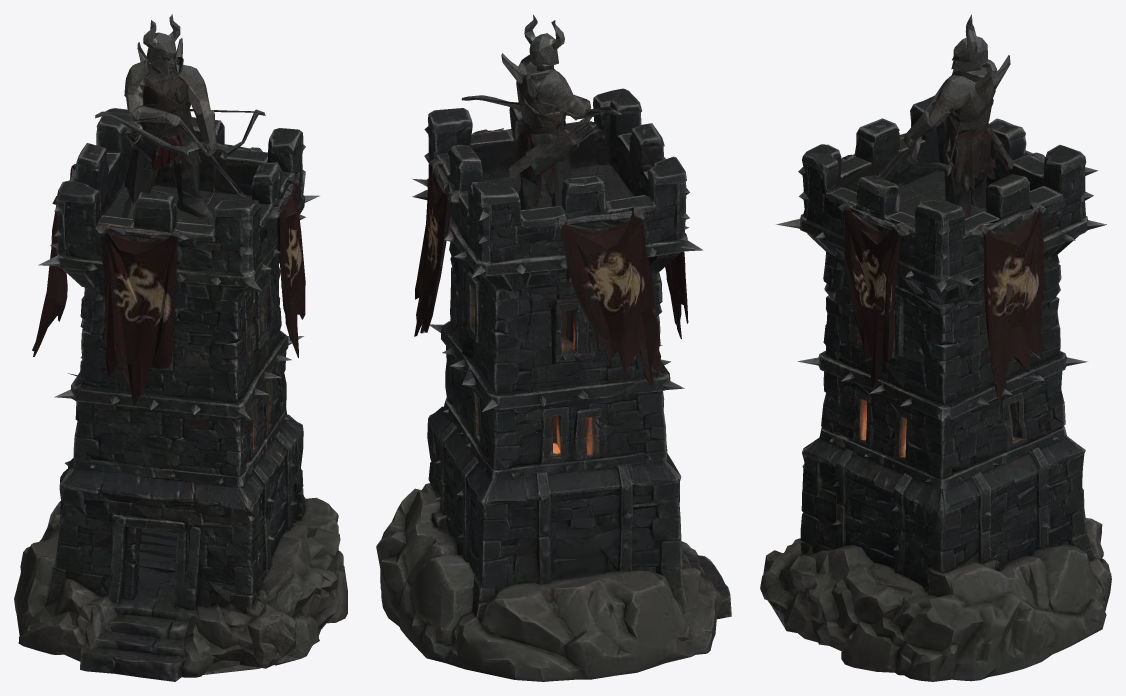
The model's file is model.opt.c.glb.
3 renders of one model, left to right at view 1: azimuth 30°, elevation 25°; view 2: azimuth 150°, elevation 25°; view 3: azimuth 270°, elevation 25°, orthographic. The views are drawn at different scales.
Visible parts, largest first — view 1: Mesh_0; view 2: Mesh_0; view 3: Mesh_0.
Part boxes in pixels (<box>): Mesh_0: <box>14,14,347,681</box>; Mesh_0: <box>376,14,731,681</box>; Mesh_0: <box>760,14,1111,681</box>.
Bounding box in the file's own units: 1.06 × 1.9 × 1.03.
Materials: 1 (1 with a texture image).
